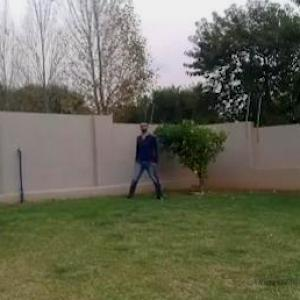follow: (137, 117, 158, 199)
